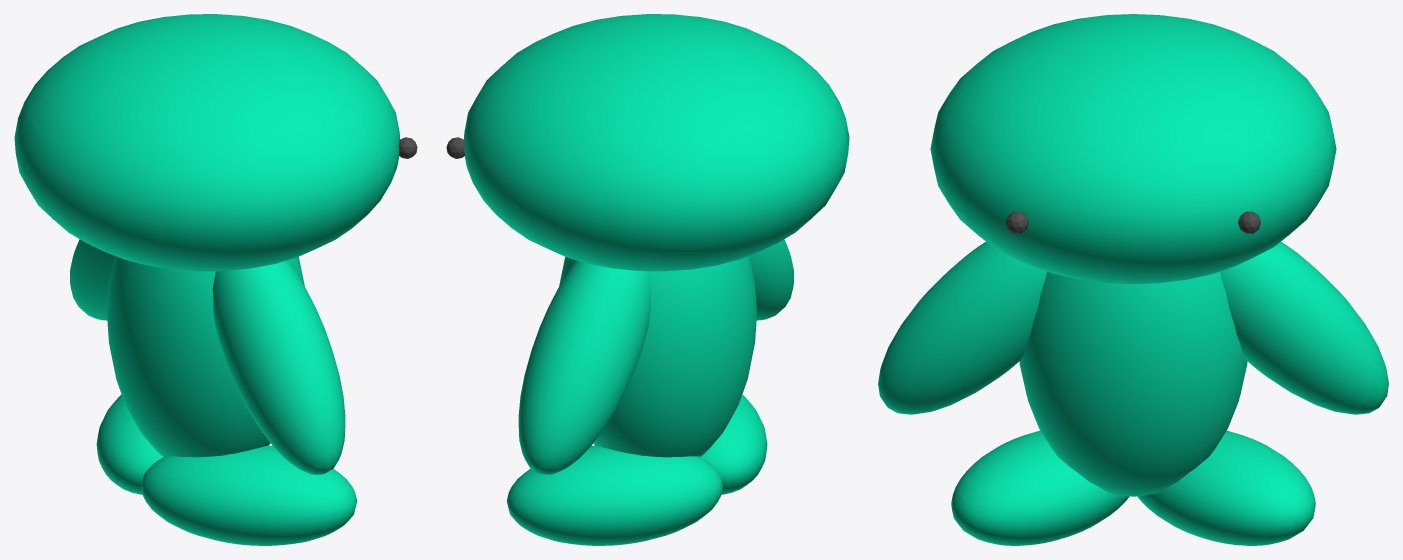
Rendered from npc no hat.fbx.
3 views of the same model, side by side, from view 1: azimuth 30°, elevation 25°; view 2: azimuth 150°, elevation 25°; view 3: azimuth 270°, elevation 25° (orthographic). The views are drawn at different scales.
Visible parts, largest first — view 1: Sphere.001, Sphere.003, Sphere, Sphere.002, Sphere.004, Sphere.005; view 2: Sphere.001, Sphere.003, Sphere.005, Sphere.004, Sphere.002, Sphere; view 3: Sphere.001, Sphere.003, Sphere, Sphere.005, Sphere.002, Sphere.004.
Boxes of the visible parts, box(x1,y1,x2,y2) form: Sphere.001: box(14, 14, 400, 271); Sphere.003: box(107, 256, 304, 457); Sphere: box(212, 260, 345, 474); Sphere.002: box(141, 445, 357, 545); Sphere.004: box(96, 394, 163, 494); Sphere.005: box(70, 239, 114, 320); Sphere.001: box(463, 14, 849, 271); Sphere.003: box(559, 256, 756, 457); Sphere.005: box(518, 260, 651, 474); Sphere.004: box(506, 445, 722, 545); Sphere.002: box(700, 394, 767, 494); Sphere: box(749, 239, 793, 320); Sphere.001: box(930, 14, 1336, 284); Sphere.003: box(1019, 271, 1247, 496); Sphere: box(878, 242, 1046, 414); Sphere.005: box(1220, 242, 1388, 414); Sphere.002: box(951, 430, 1129, 545); Sphere.004: box(1137, 430, 1315, 545).
Size of the model in its own units: 350 by 463 by 440.
